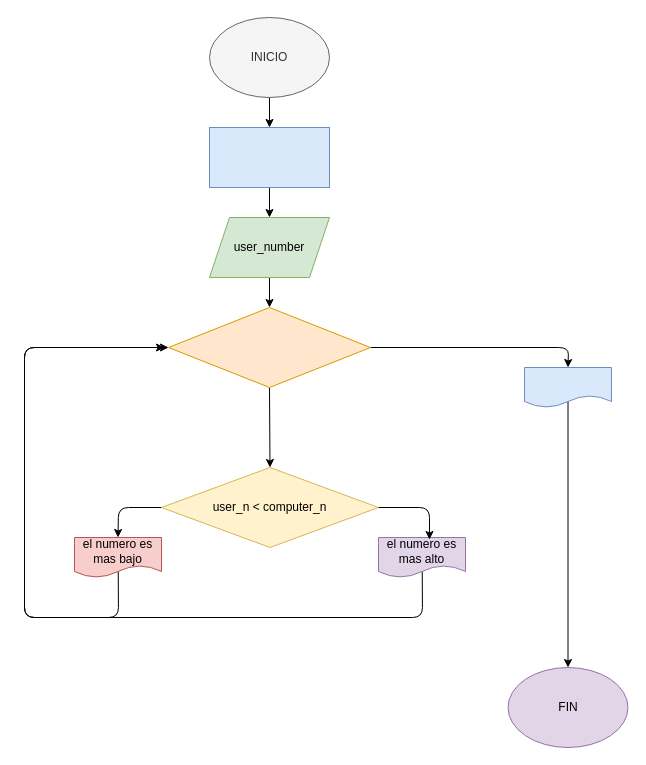
The diagram is 646 pixels wide and 765 high, and some of its shapes have lost their labels. The centre of each missing label's shape, as x and y in pixels:
"adivinaste el numero" goes at point 568,387.
"computer_number = radiant ( 1 , 100)" goes at point 269,157.
"user_n != computer_n" goes at point 269,347.
